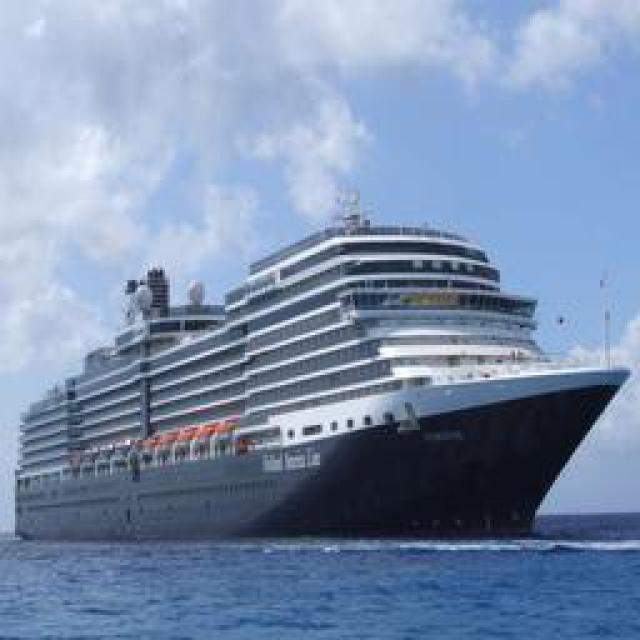Ship: (20, 210, 613, 538)
